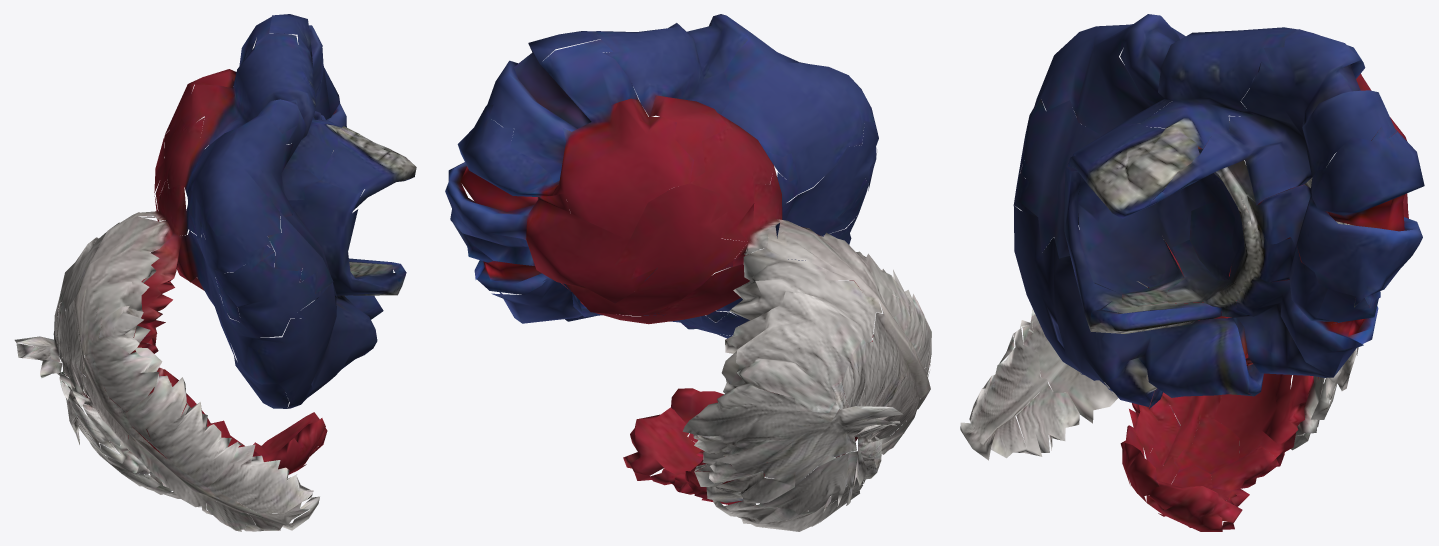
The model's file is feathered-helmet.glb.
The picture shows the model from 3 angles, left to right: view 1: azimuth 30°, elevation 25°; view 2: azimuth 150°, elevation 25°; view 3: azimuth 270°, elevation 25°; orthographic projection. The views are drawn at different scales.
Visible parts, largest first — view 1: ACC_feathered-helmet; view 2: ACC_feathered-helmet; view 3: ACC_feathered-helmet.
Boxes of the visible parts, x1=… form: ACC_feathered-helmet: x1=14, y1=14, x2=416, y2=531; ACC_feathered-helmet: x1=445, y1=14, x2=931, y2=531; ACC_feathered-helmet: x1=960, y1=14, x2=1424, y2=531.
Size of the model in its own units: 0.4581 by 0.5028 by 0.4027.
Materials: 1 (1 with a texture image).
